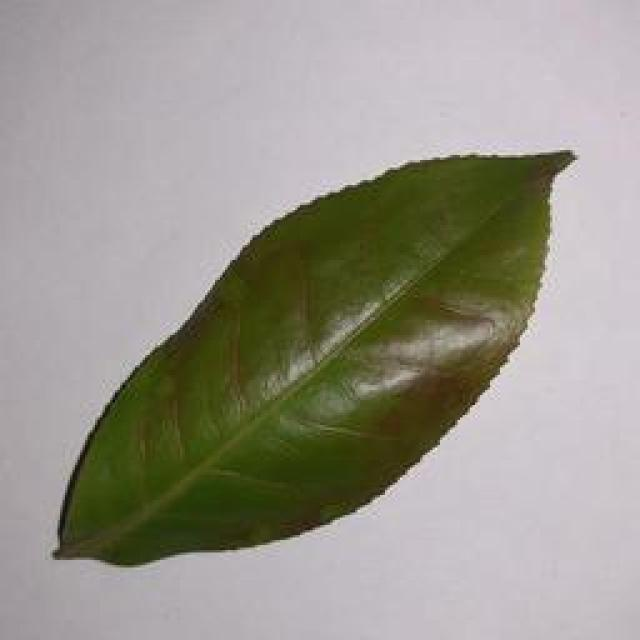Red Leaf Spot: (45, 127, 569, 573)
